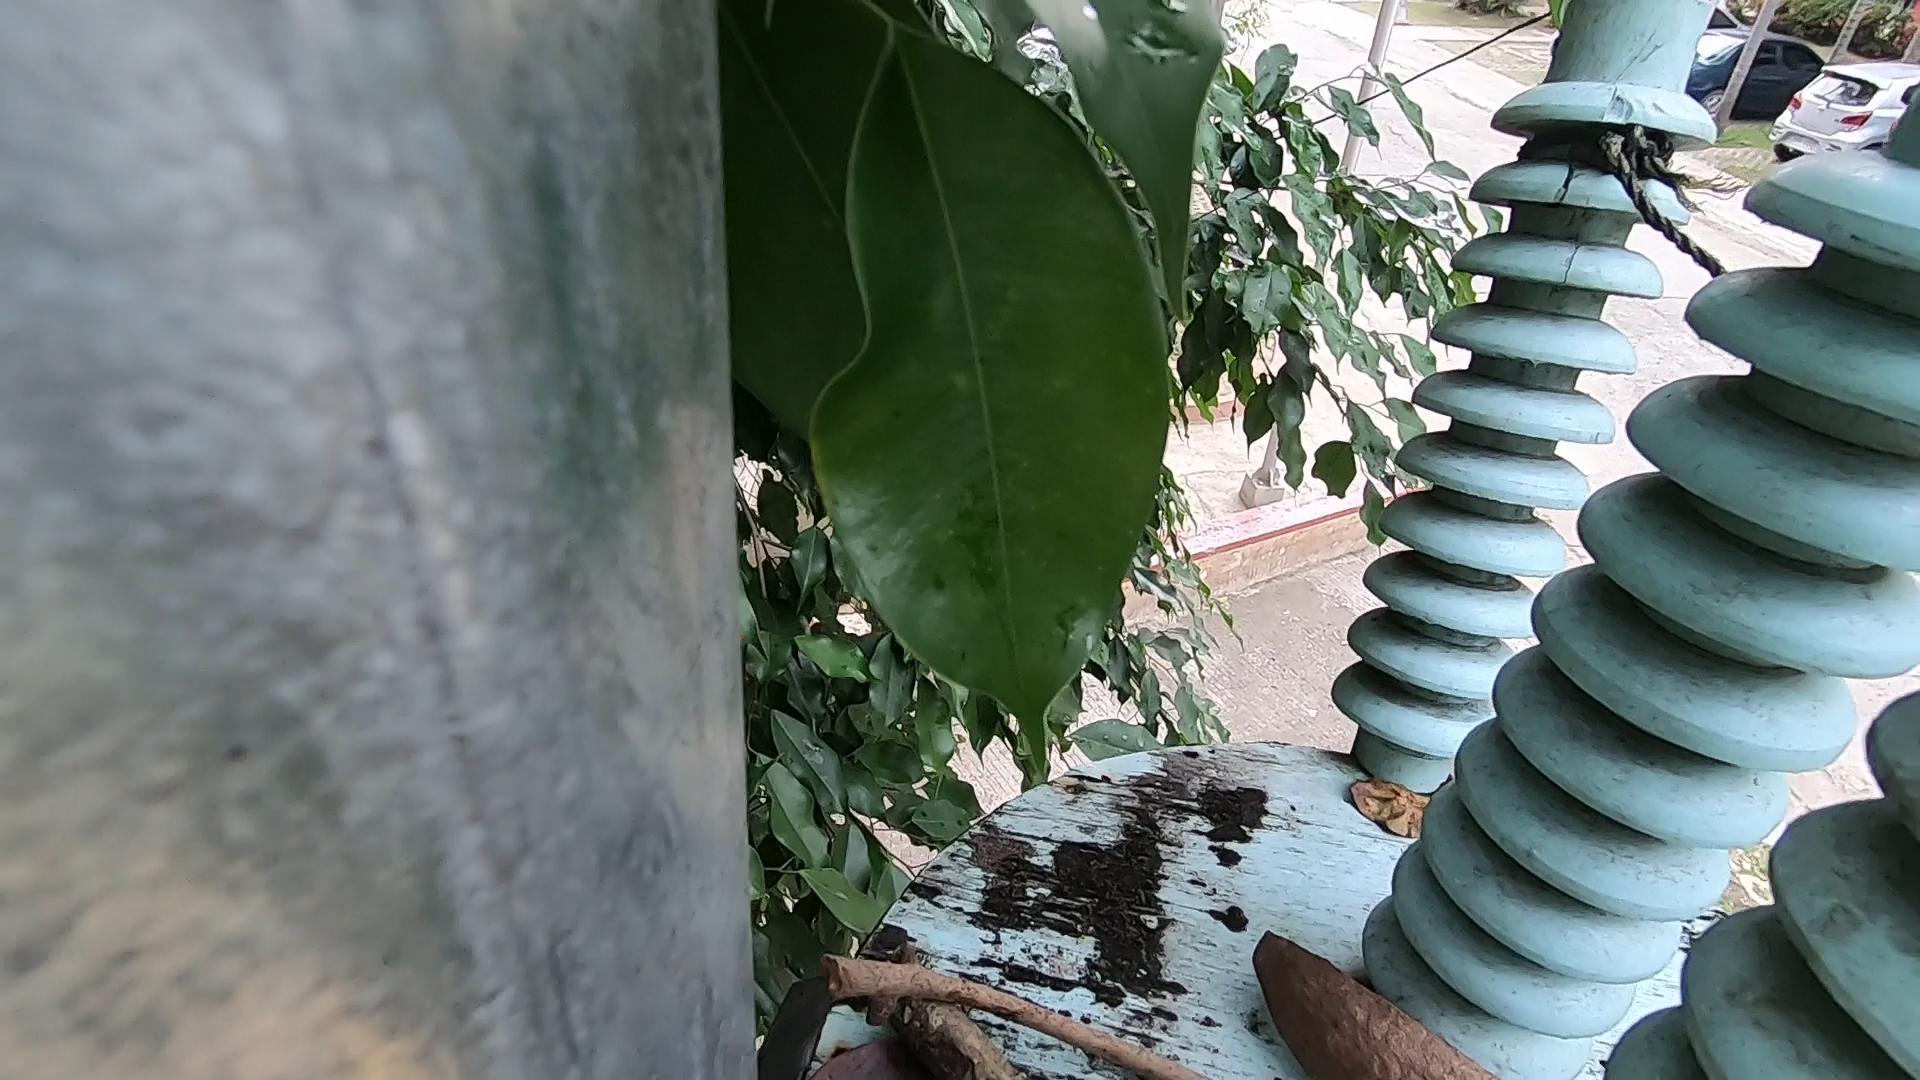branch with leaves: (845, 934, 1025, 1080)
leaf: (1337, 756, 1489, 884), (799, 994, 885, 1080)
mahogany fruit: (1220, 905, 1509, 1080)
tree branch: (783, 942, 1189, 1080)
